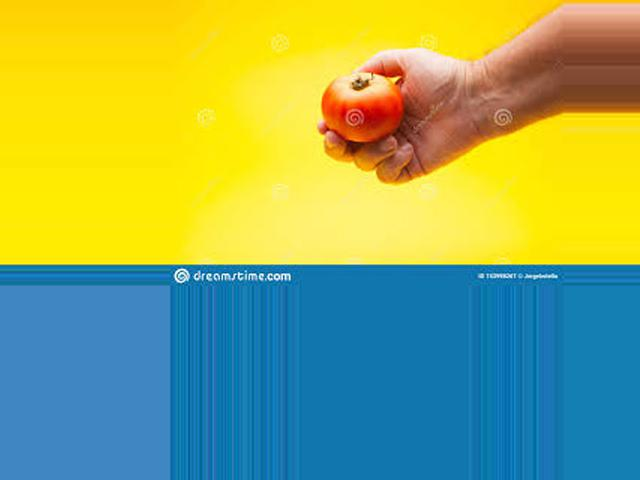tomato: (322, 73, 403, 142)
